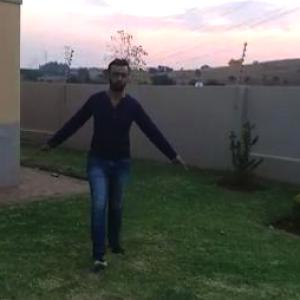land: (40, 34, 223, 293)
